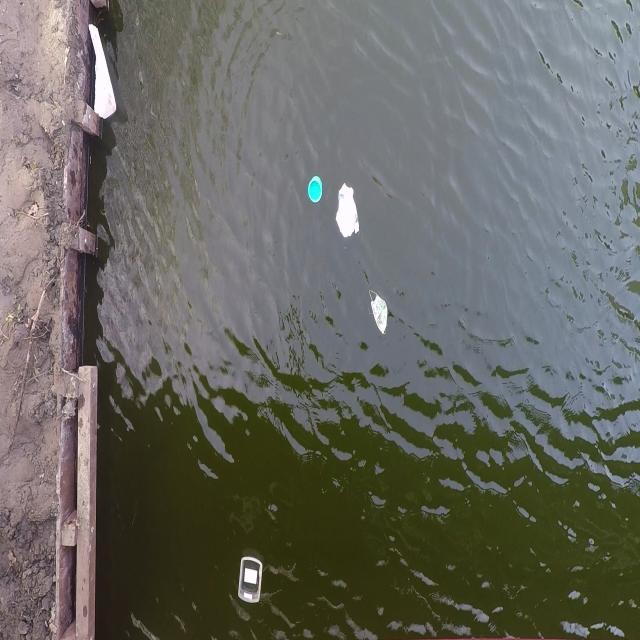Autre plastique: (232, 546, 268, 614), (304, 172, 325, 210)
Non plastique: (365, 285, 397, 339)
